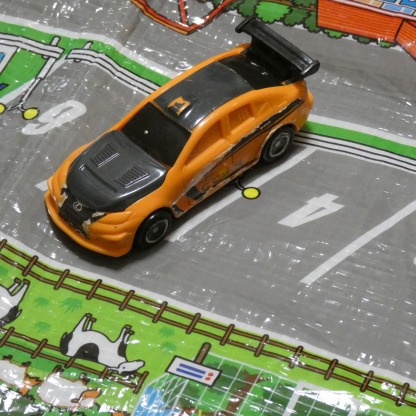car: (37, 11, 325, 260)
